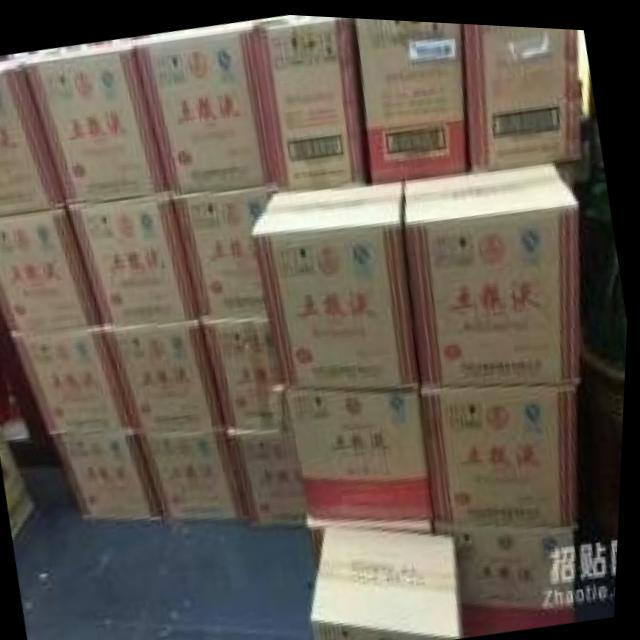box: (407, 154, 584, 383), (252, 177, 423, 388), (137, 16, 289, 192), (25, 44, 170, 202), (423, 380, 583, 521), (287, 386, 438, 519), (253, 13, 368, 179), (66, 192, 203, 323), (315, 524, 467, 640), (465, 19, 582, 164), (357, 15, 467, 167), (438, 513, 580, 629), (105, 317, 229, 430), (0, 205, 105, 334), (14, 323, 137, 431), (175, 182, 275, 314), (140, 425, 250, 517), (0, 61, 66, 213), (203, 315, 290, 428), (56, 430, 167, 517), (232, 424, 310, 525), (312, 512, 434, 570), (0, 424, 41, 542), (374, 153, 467, 179)
